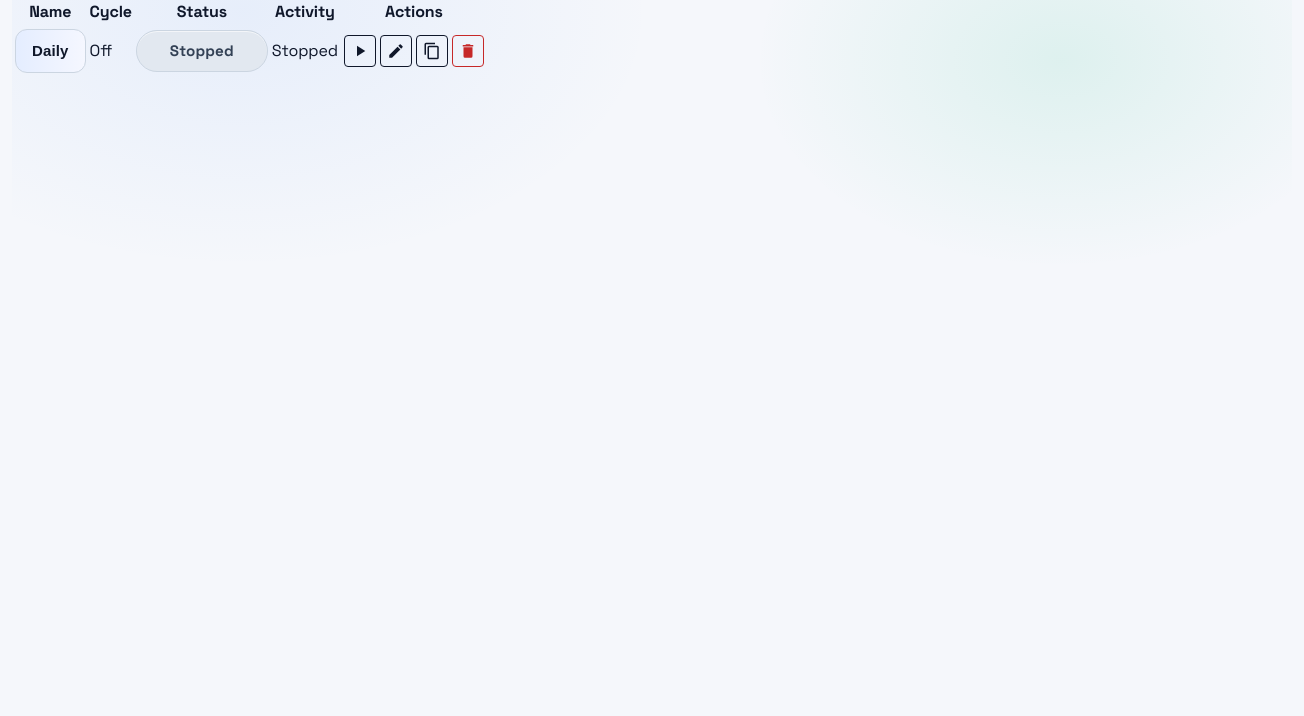
Test case: QueuesPage template save wiring › disables Save Template (bottom) when the queue has no associated template
Click the button "Daily" at (50, 51), box [15,29,86,73]
(page scrolled)
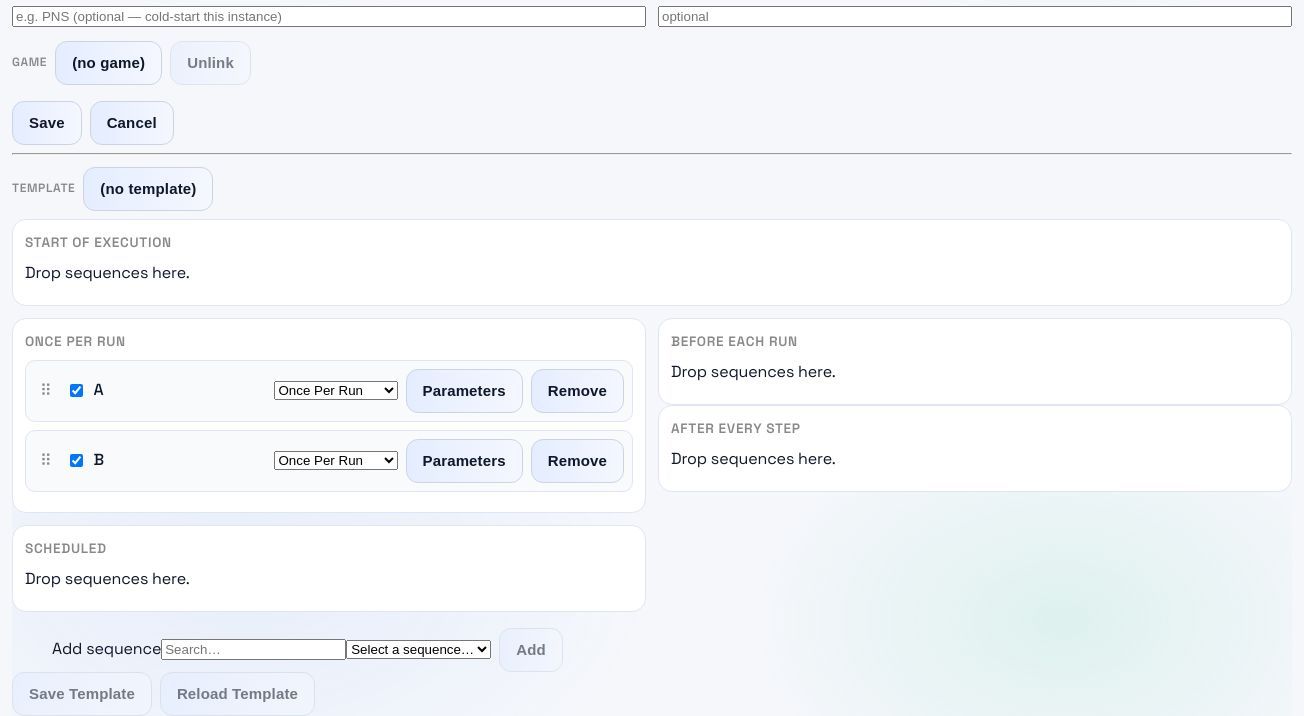
expect the button "Save Template" is disabled: met, box [12,672,152,715]
